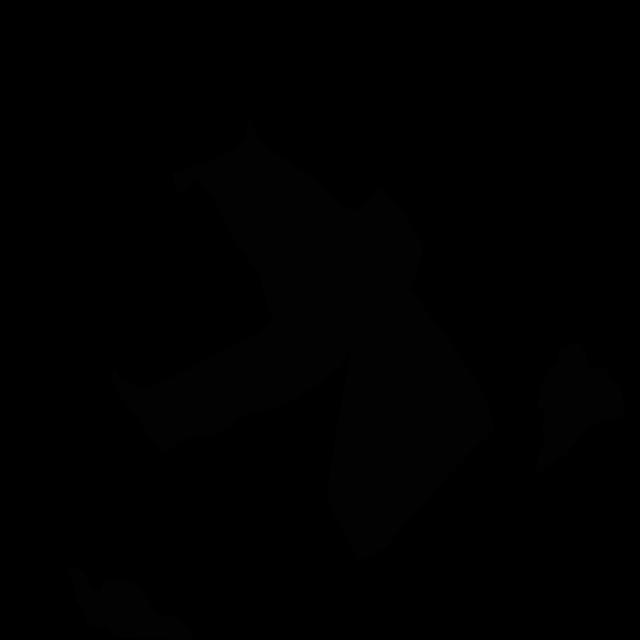cardboard: (112, 115, 424, 455), (326, 289, 495, 561), (536, 342, 626, 474), (67, 567, 194, 640)
